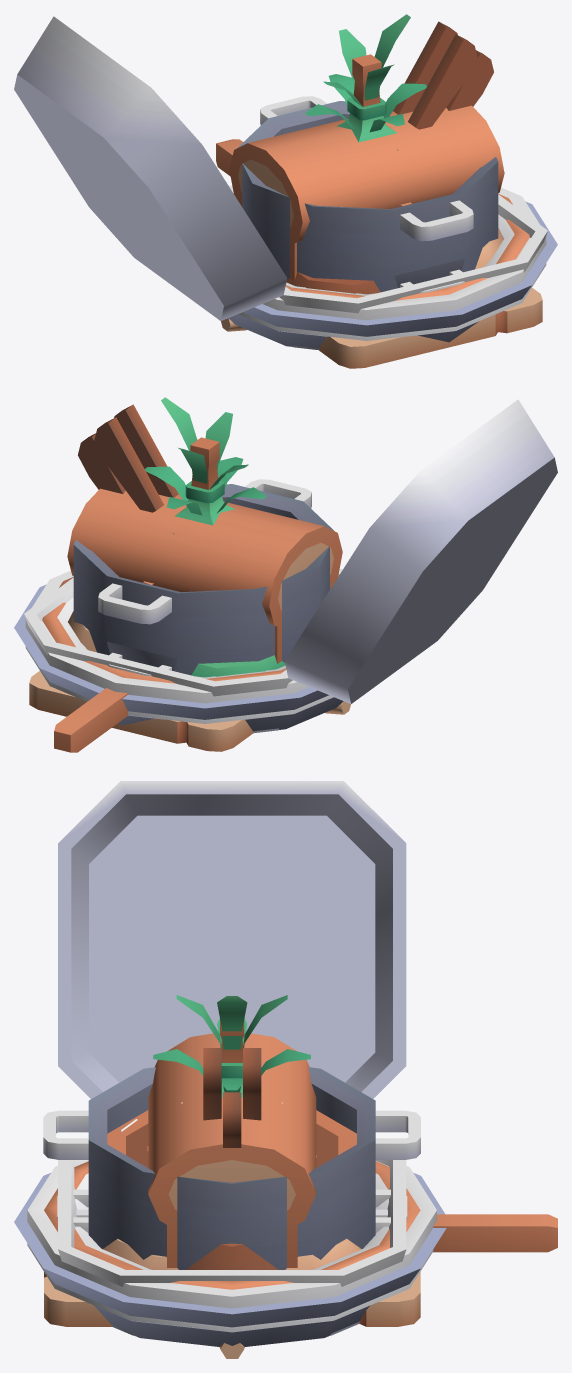
Rendered from food.glb.
The picture shows the model from 3 angles, top to bottom: view 1: azimuth 30°, elevation 25°; view 2: azimuth 150°, elevation 25°; view 3: azimuth 270°, elevation 25°; orthographic projection. The views are drawn at different scales.
Parts seen in each view (by area): view 1: lid, pot-stew, loaf, pie, cooking-knife (×3), cutting-board, plate-deep, styrofoam-dinner, carrot, bottle-oil, Group (×2), plate-dinner (+3 smaller); view 2: lid, pot-stew, loaf, pie, cooking-knife (×3), plate-deep, styrofoam-dinner, cutting-board, carrot, frying-pan, bottle-oil, Group (+3 smaller); view 3: lid, pot-stew, loaf, pie, plate-deep, styrofoam-dinner, frying-pan, cooking-knife (×3), cutting-board, carrot, Group, plate-dinner (+5 smaller).
Part boxes in pixels (x1=…): lid: x1=14, y1=16, x2=287, y2=320; pot-stew: x1=237, y1=96, x2=498, y2=292; loaf: x1=229, y1=105, x2=504, y2=280; pie: x1=228, y1=194, x2=557, y2=348; cooking-knife (×3): x1=393, y1=21, x2=493, y2=129; cutting-board: x1=319, y1=288, x2=542, y2=368; plate-deep: x1=263, y1=187, x2=546, y2=320; styrofoam-dinner: x1=229, y1=185, x2=547, y2=350; carrot: x1=305, y1=14, x2=426, y2=132; bottle-oil: x1=336, y1=54, x2=396, y2=142; Group (×2): x1=286, y1=228, x2=503, y2=294; plate-dinner: x1=238, y1=263, x2=546, y2=340; lid: x1=284, y1=399, x2=557, y2=703; pot-stew: x1=73, y1=479, x2=333, y2=675; loaf: x1=67, y1=488, x2=342, y2=663; pie: x1=14, y1=577, x2=343, y2=731; cooking-knife (×3): x1=78, y1=404, x2=178, y2=512; plate-deep: x1=25, y1=570, x2=308, y2=703; styrofoam-dinner: x1=24, y1=568, x2=342, y2=732; cutting-board: x1=29, y1=671, x2=253, y2=751; carrot: x1=145, y1=397, x2=266, y2=515; frying-pan: x1=54, y1=688, x2=127, y2=752; bottle-oil: x1=175, y1=437, x2=235, y2=525; Group: x1=191, y1=655, x2=285, y2=677; lid: x1=58, y1=781, x2=406, y2=1098; pot-stew: x1=43, y1=1067, x2=420, y2=1269; loaf: x1=148, y1=1033, x2=316, y2=1267; pie: x1=14, y1=1161, x2=446, y2=1346; plate-deep: x1=27, y1=1161, x2=436, y2=1308; styrofoam-dinner: x1=58, y1=1160, x2=406, y2=1335; frying-pan: x1=433, y1=1214, x2=557, y2=1252; cooking-knife (×3): x1=203, y1=1048, x2=261, y2=1147; cutting-board: x1=44, y1=1272, x2=420, y2=1326; carrot: x1=153, y1=995, x2=310, y2=1092; Group: x1=103, y1=1238, x2=361, y2=1269; plate-dinner: x1=27, y1=1244, x2=432, y2=1332.
Size of the model in its own units: 1.35 by 0.8921 by 1.18.
Materials: 1 (1 with a texture image).
